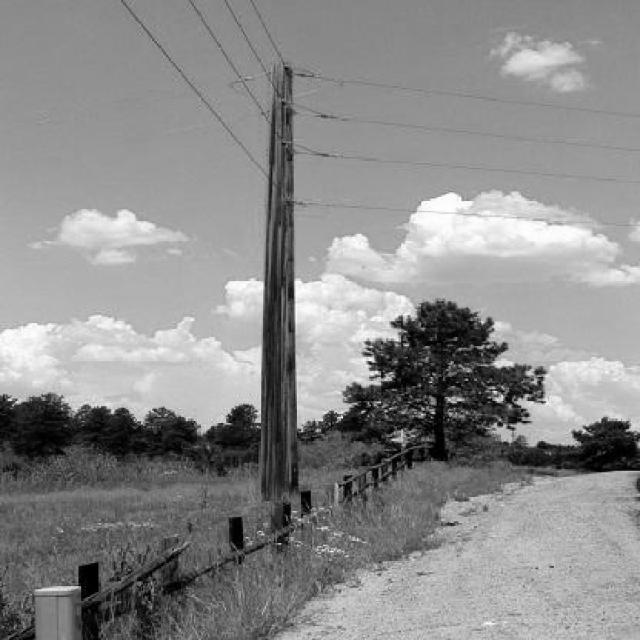Pole: (259, 60, 299, 499)
